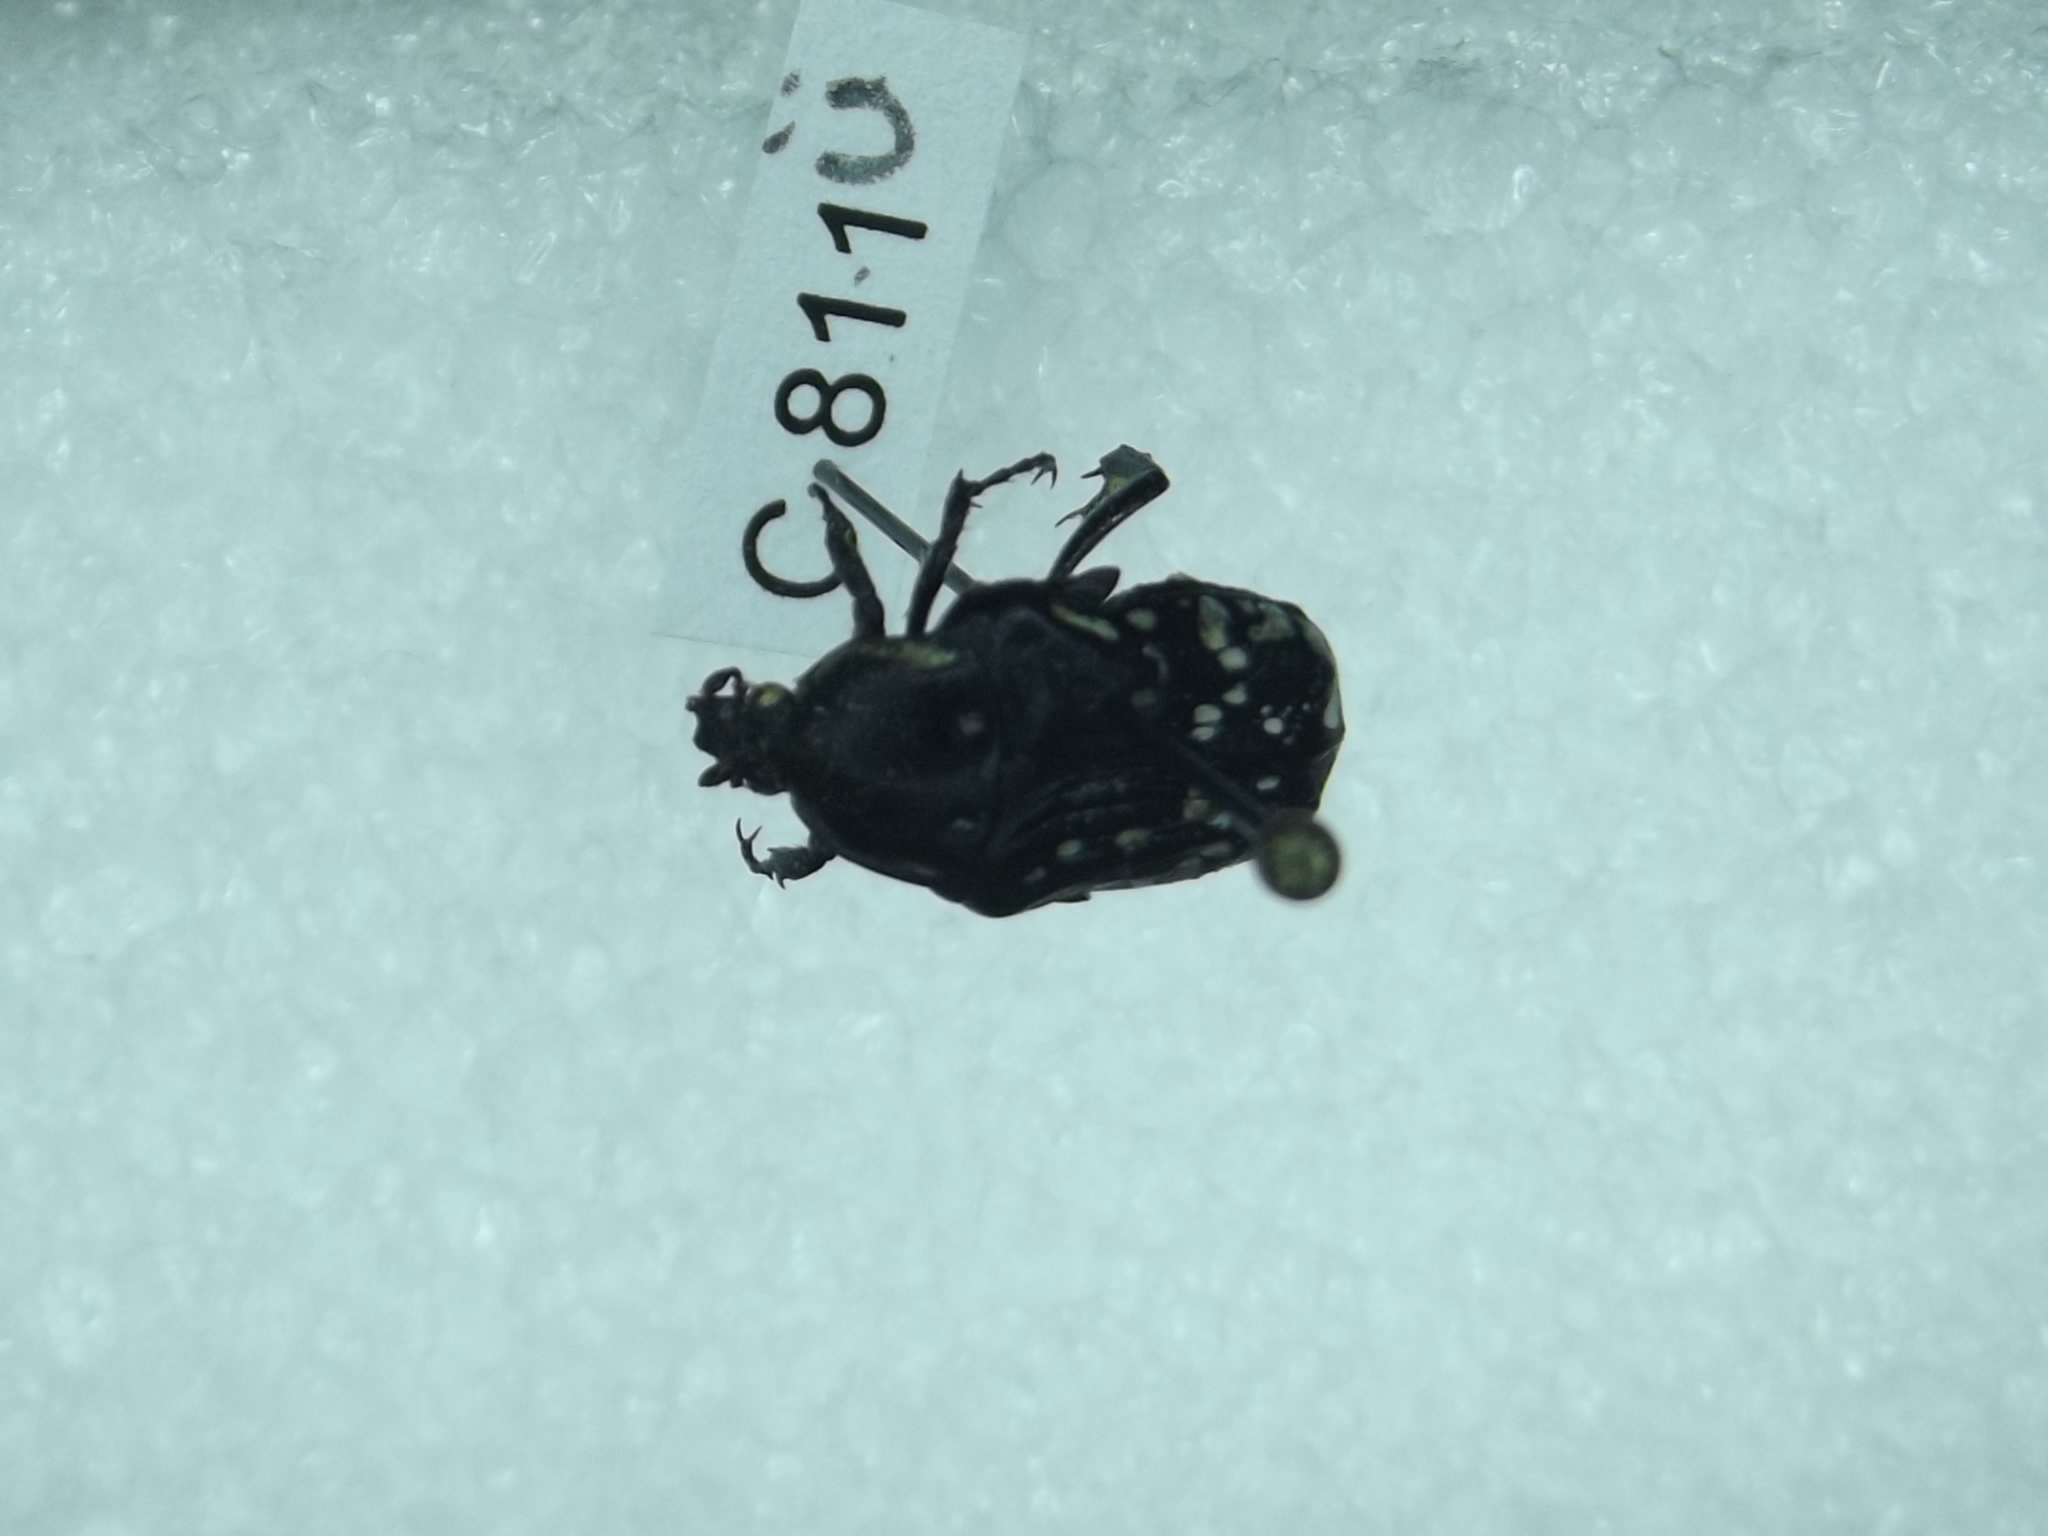Oxythyrea_albopicta: (677, 452, 1347, 921)
